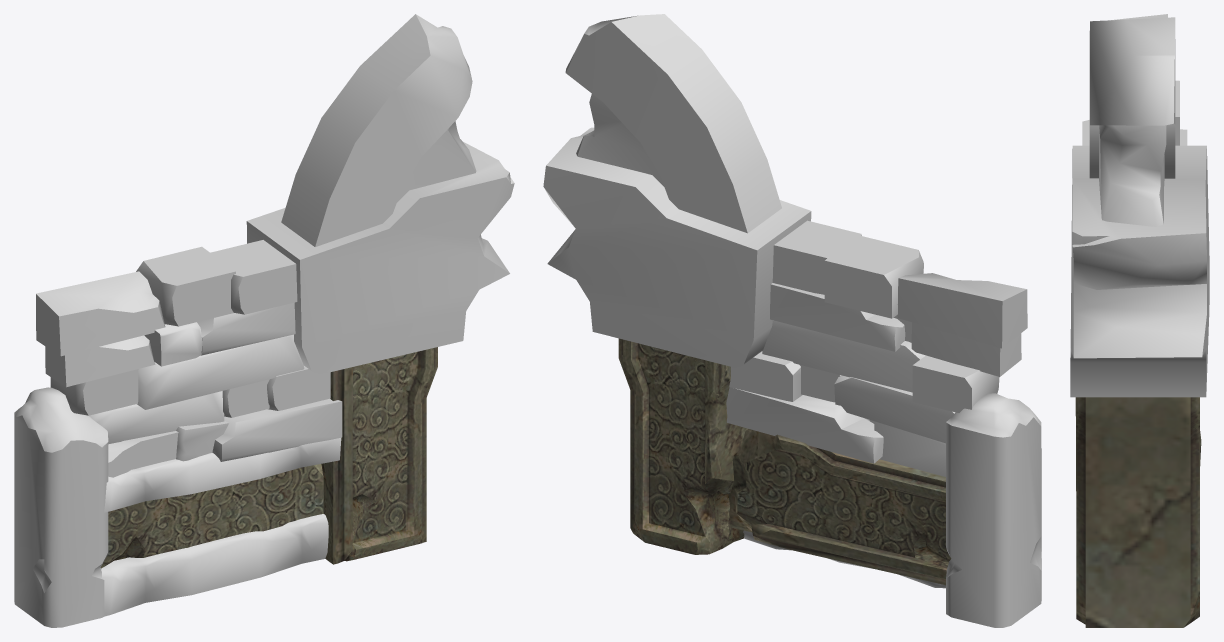
File: Scene_Build_TaZiShaMo_PoSunJianZhu_4.FBX
3 views of the same model, side by side, from view 1: azimuth 30°, elevation 25°; view 2: azimuth 150°, elevation 25°; view 3: azimuth 270°, elevation 25° (orthographic). The views are drawn at different scales.
Visible parts, largest first — view 1: Scene_Build_TaZiShaMo_PoSunJianZhu_4; view 2: Scene_Build_TaZiShaMo_PoSunJianZhu_4; view 3: Scene_Build_TaZiShaMo_PoSunJianZhu_4.
Part boxes in pixels (x1,y1,x2,y2): Scene_Build_TaZiShaMo_PoSunJianZhu_4: (14, 14, 514, 627); Scene_Build_TaZiShaMo_PoSunJianZhu_4: (543, 14, 1041, 627); Scene_Build_TaZiShaMo_PoSunJianZhu_4: (1070, 14, 1209, 627).
Bounding box in the file's own units: 956 × 985 × 198.
